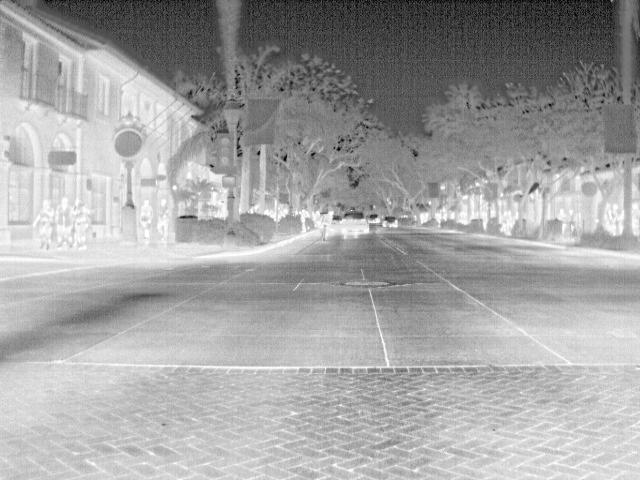car: (338, 211, 368, 237), (381, 214, 400, 230), (365, 212, 383, 225)
person: (54, 195, 77, 252), (32, 199, 56, 250), (73, 200, 92, 248), (139, 198, 158, 246), (156, 196, 173, 246), (555, 208, 568, 237), (565, 207, 577, 236)
